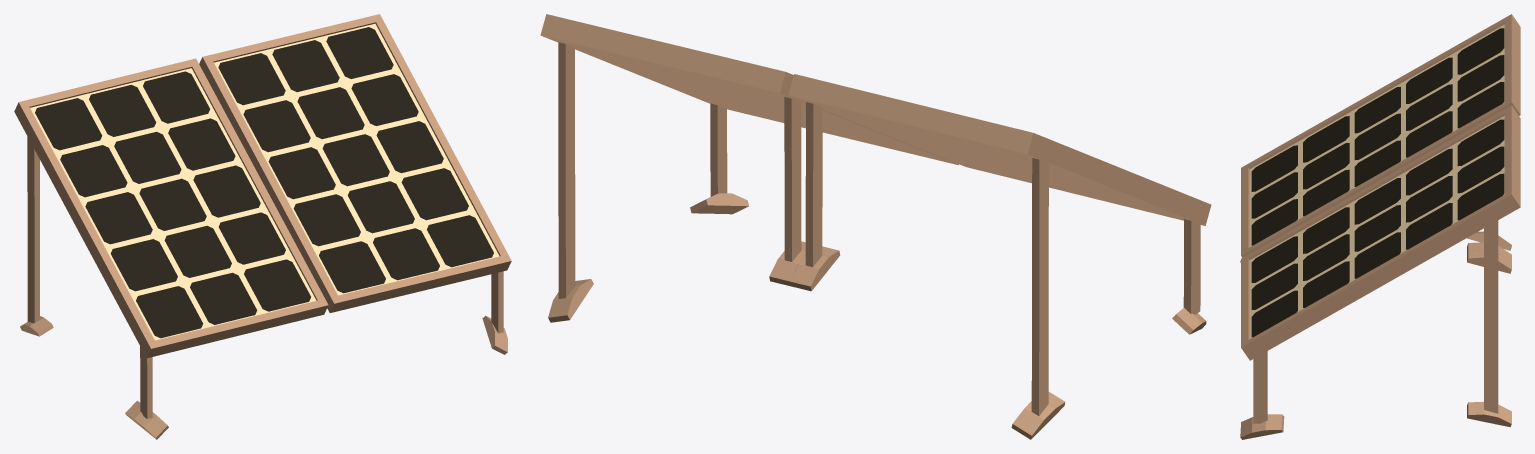
The model's file is quaternius-ultimate-space-solarpanel-roof.glb.
3 renders of one model, left to right at view 1: azimuth 30°, elevation 25°; view 2: azimuth 150°, elevation 25°; view 3: azimuth 270°, elevation 25°, orthographic. The views are drawn at different scales.
Parts seen in each view (by area): view 1: SolarPanel_Roof; view 2: SolarPanel_Roof; view 3: SolarPanel_Roof.
Boxes of the visible parts, x1,y1,x2,y2 form: SolarPanel_Roof: (14,14,511,439); SolarPanel_Roof: (540,14,1211,439); SolarPanel_Roof: (1240,14,1520,439).
Bounding box in the file's own units: 2.73 × 1.7 × 1.73.
Materials: 1 (1 with a texture image).
